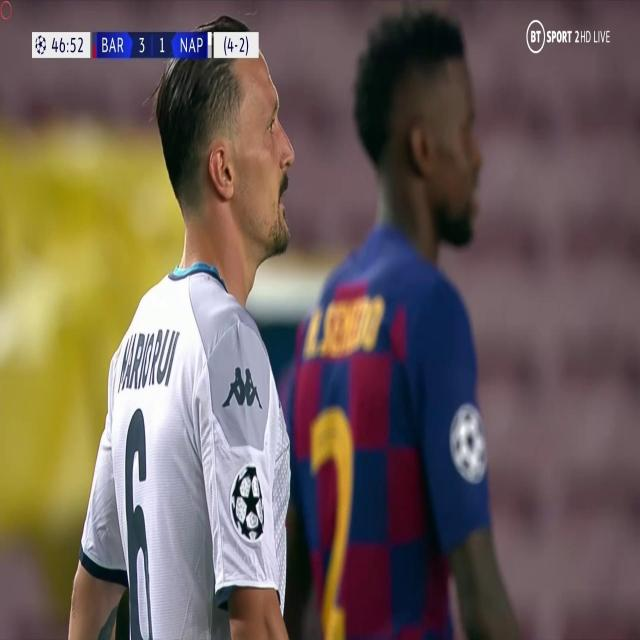player: (46, 58, 324, 640), (282, 0, 522, 640)
